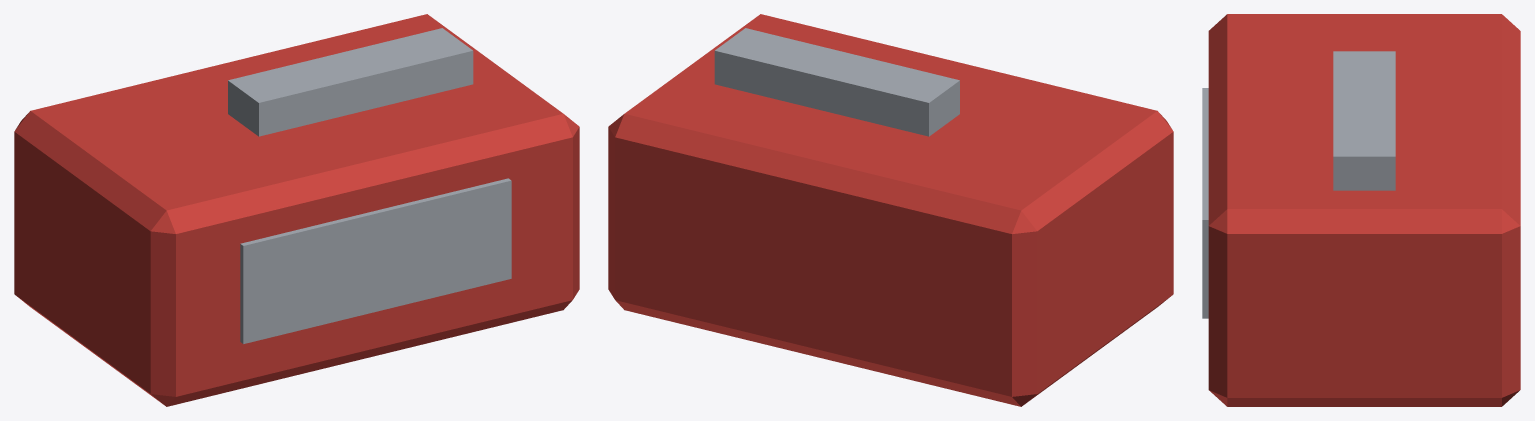
Rendered from prop_artillery_p0.glb.
3 views of the same model, side by side, from view 1: azimuth 30°, elevation 25°; view 2: azimuth 150°, elevation 25°; view 3: azimuth 270°, elevation 25° (orthographic).
Parts seen in each view (by area): view 1: prop_artillery_p0_mesh; view 2: prop_artillery_p0_mesh; view 3: prop_artillery_p0_mesh.
Part boxes in pixels (bbox=[...]): prop_artillery_p0_mesh: bbox=[14, 14, 579, 406]; prop_artillery_p0_mesh: bbox=[608, 14, 1173, 406]; prop_artillery_p0_mesh: bbox=[1202, 14, 1520, 406].
Bounding box in the file's own units: 0.16 × 0.082 × 0.102.
